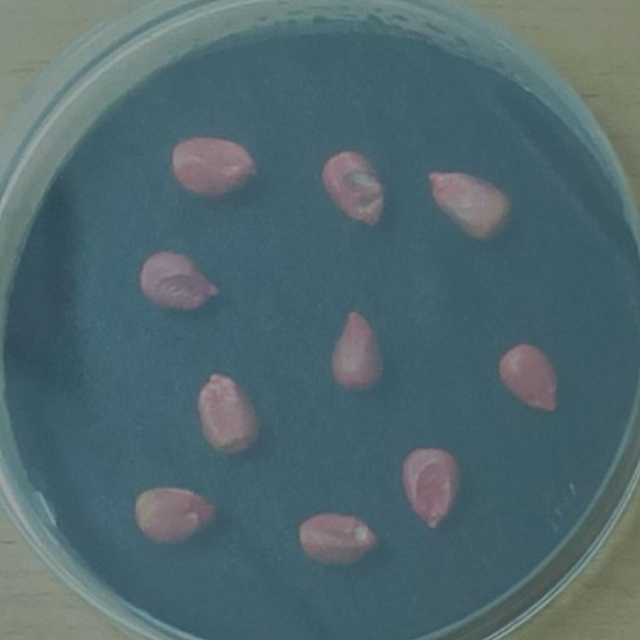Zea mays: (417, 161, 520, 251), (131, 242, 230, 321), (190, 365, 269, 464), (126, 478, 226, 556), (391, 440, 469, 539), (313, 144, 392, 241), (163, 131, 266, 204), (322, 300, 392, 400), (292, 506, 389, 575), (492, 338, 567, 424)
